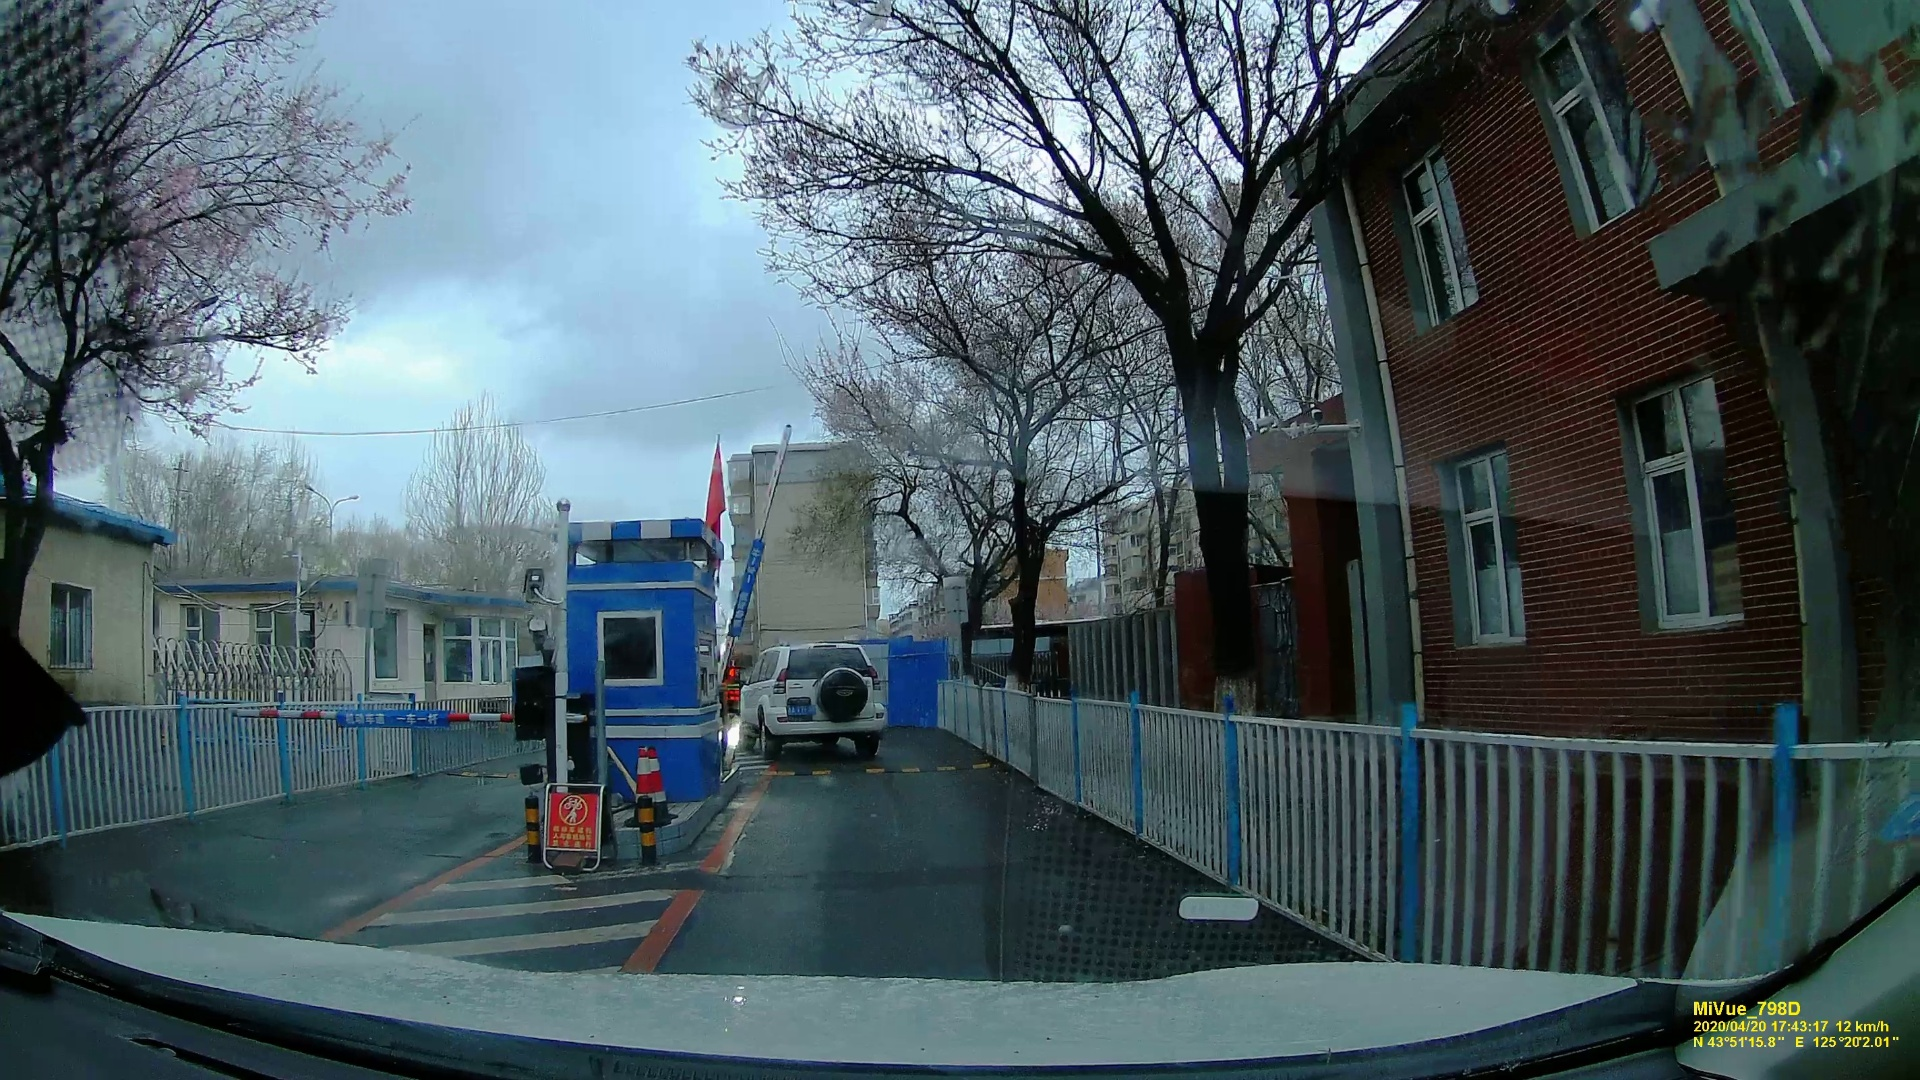traffic_sign: (537, 783, 604, 864)
vehicle: (736, 637, 890, 761)
